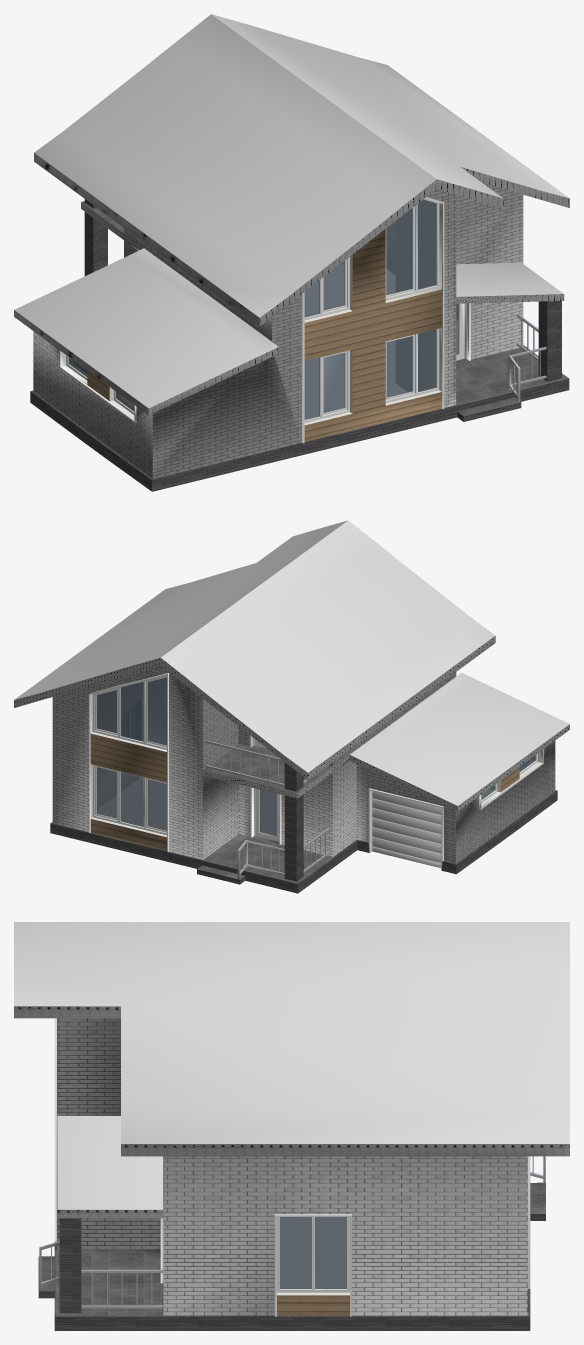
File: house_1.glb
3 renders of one model, top to bottom at view 1: azimuth 30°, elevation 25°; view 2: azimuth 150°, elevation 25°; view 3: azimuth 270°, elevation 25°, orthographic. The views are drawn at different scales.
Visible parts, largest first — view 1: house_1; view 2: house_1; view 3: house_1.
Part boxes in pixels (left/top/right/bottom): house_1: left=14, top=14, right=569, bottom=491; house_1: left=14, top=520, right=569, bottom=893; house_1: left=14, top=922, right=569, bottom=1330.
Bounding box in the file's own units: 12.34 × 6.73 × 10.62.
10 materials, 6 textured.
